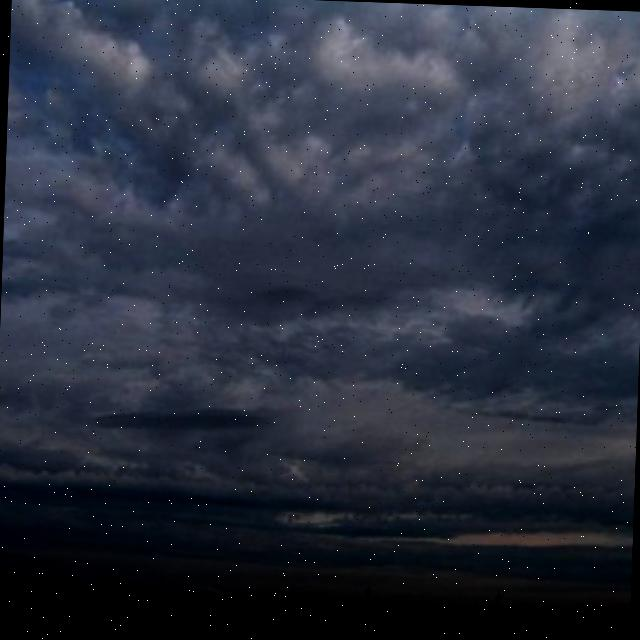Ac: (1, 3, 640, 454)
